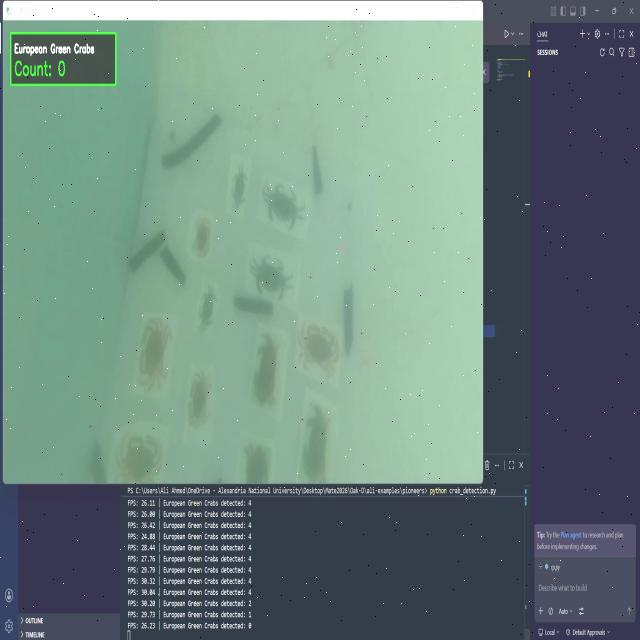European_Green_Crab: (245, 250, 295, 308), (260, 177, 306, 234), (195, 281, 217, 332), (230, 161, 249, 216)
